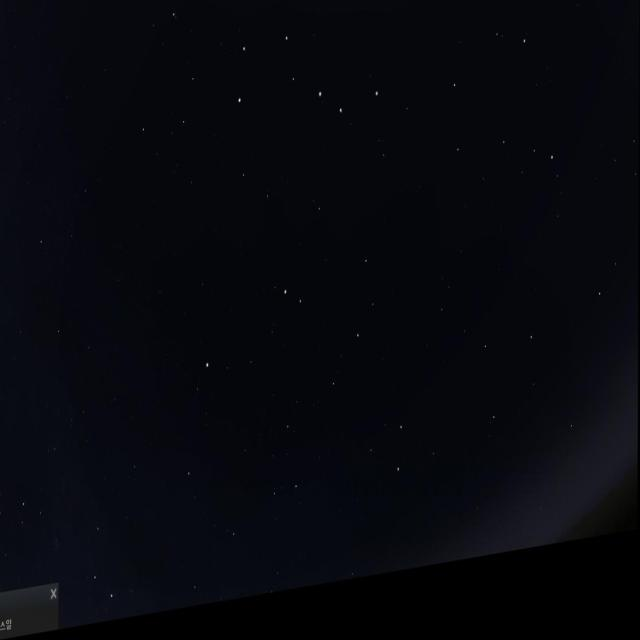ursa_major: (231, 17, 384, 168)
